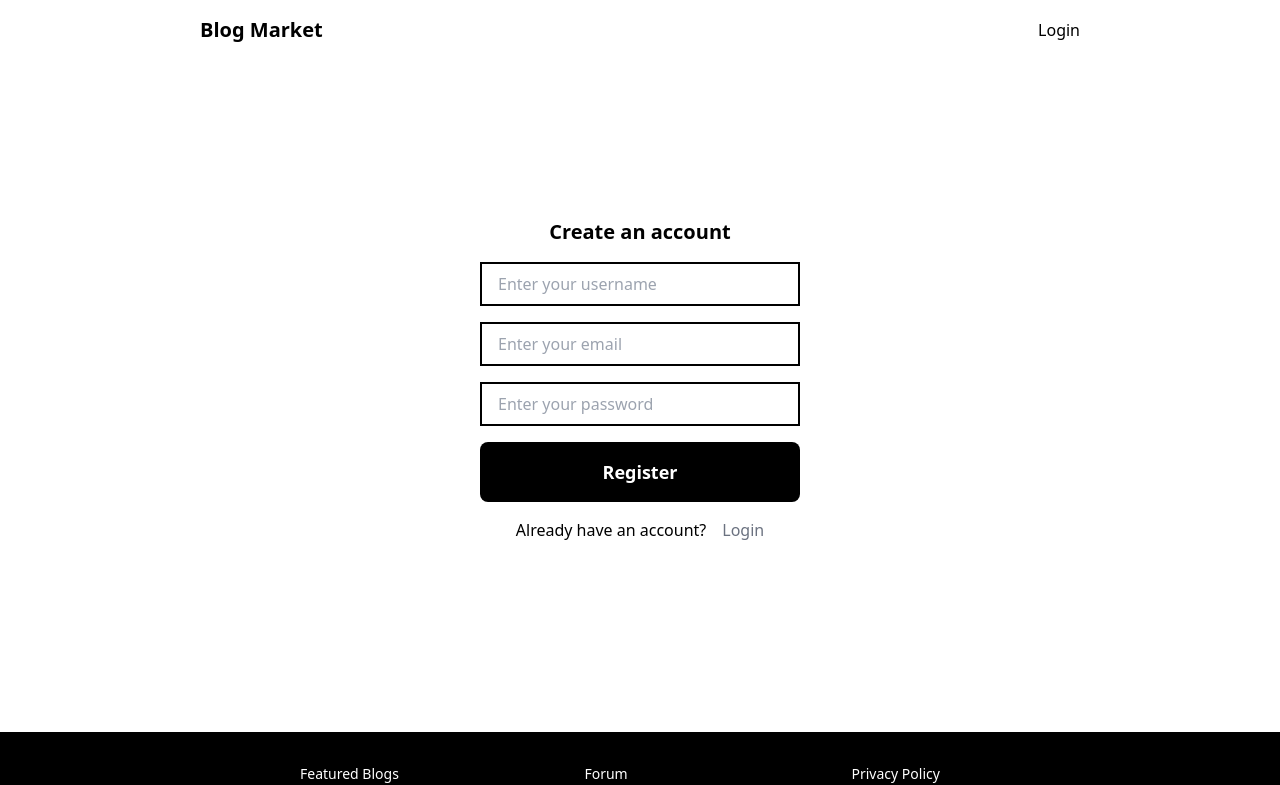
Test: Testing Register UI › should display an error message for unsuccessful registration with existing username
The width and height of the screenshot is (1280, 785).
// Simulate user input
Type "existingusername" into the field with placeholder "Enter your username".
click(640, 284); type("existingusername")  # box [480, 262, 800, 306]
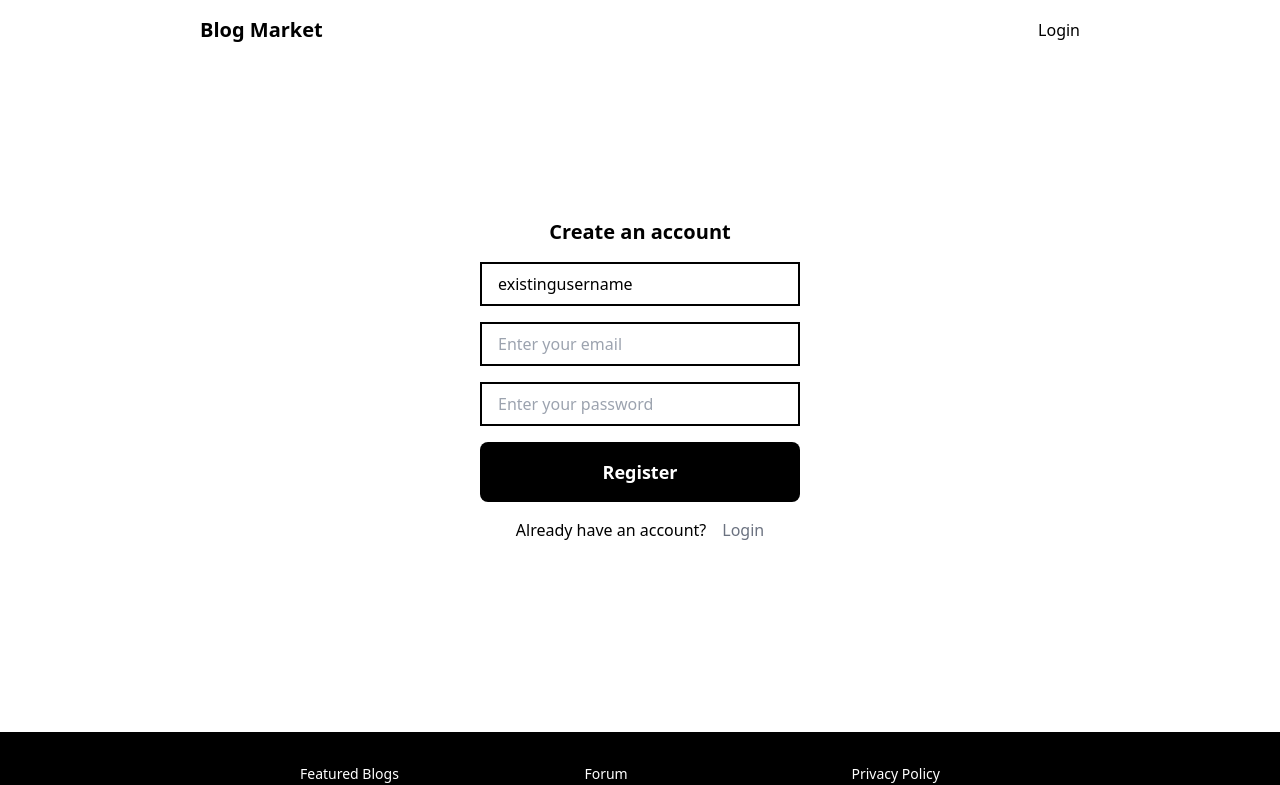
Type "newuser@example.com" into the field with placeholder "Enter your email".
click(640, 344); type("newuser@example.com")  # box [480, 322, 800, 366]
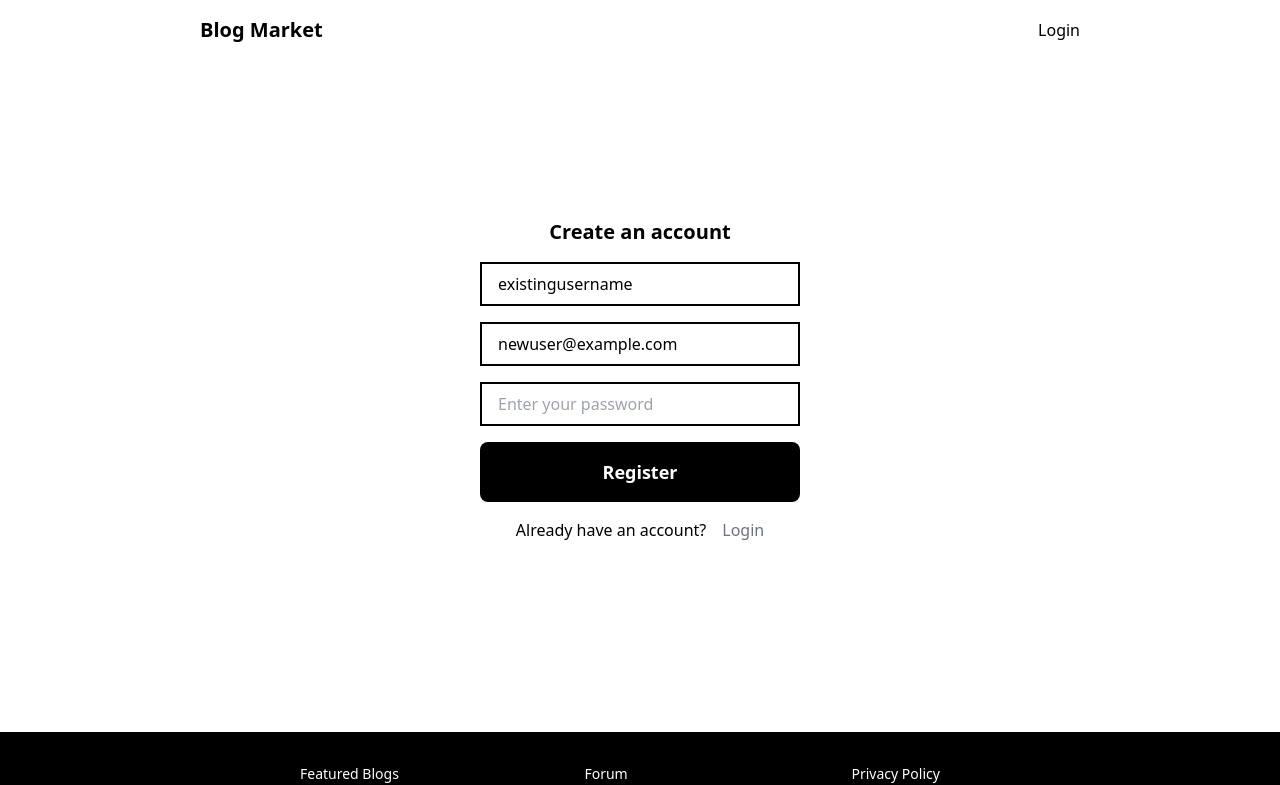
Type "newpassword" into the password field with placeholder "Enter your password".
click(640, 404); type("newpassword")  # box [480, 382, 800, 426]
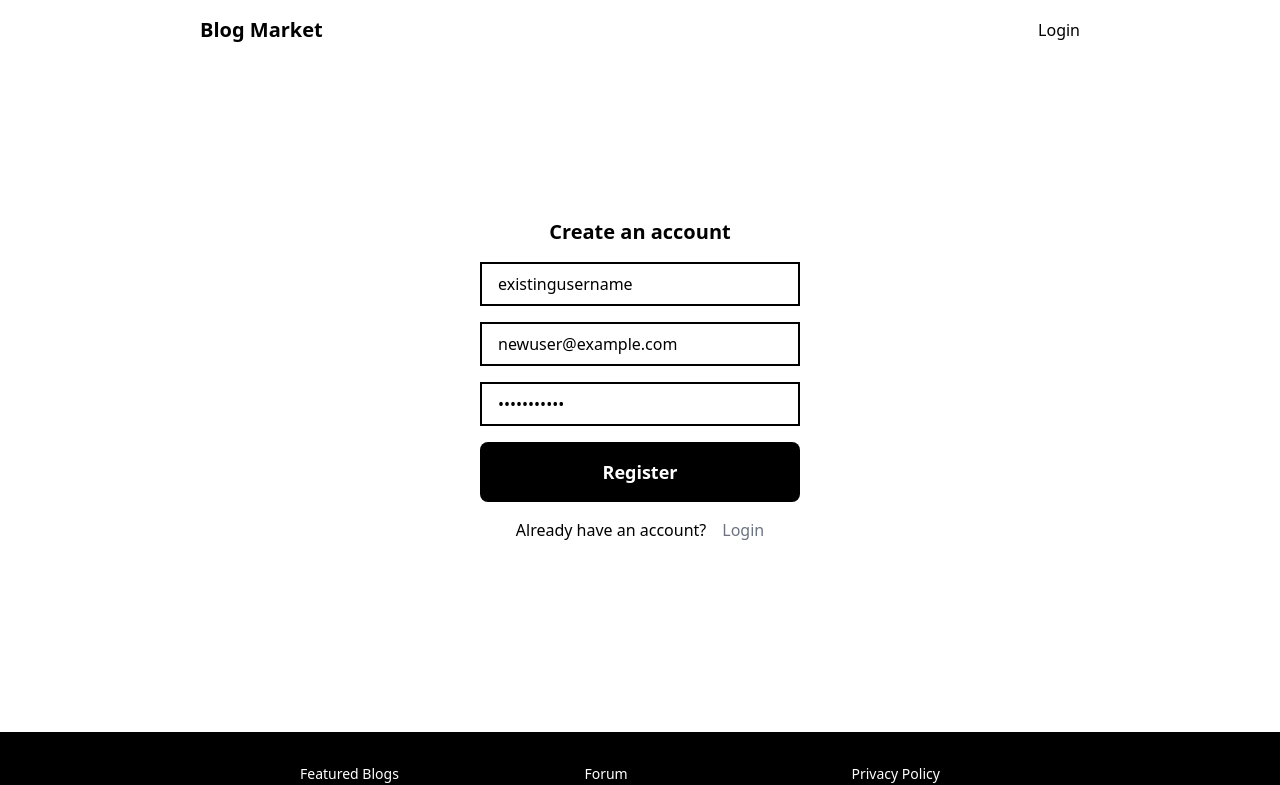
// Click the register button
Click the button "Register".
click(640, 472)  # box [480, 442, 800, 502]
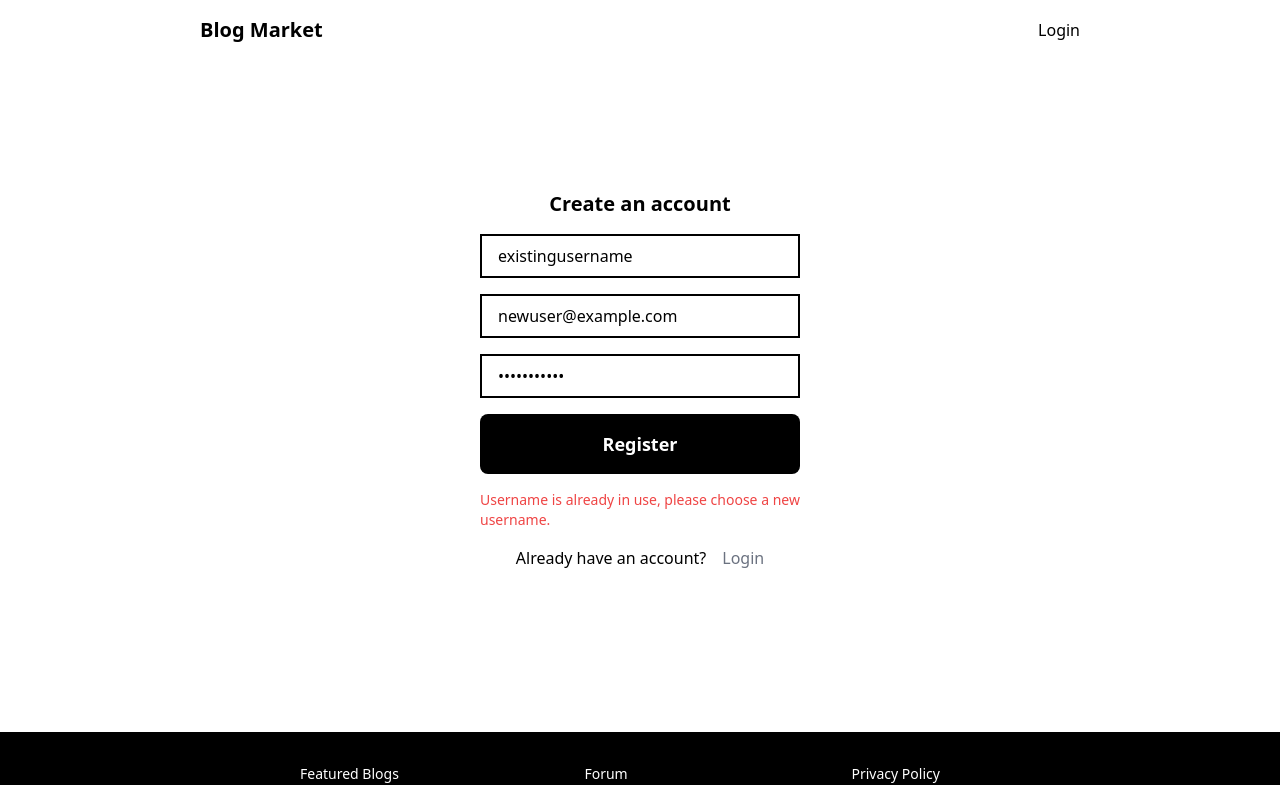
Check: the heading "Username is already in use, please choose a new username." is shown, box [480, 490, 800, 530]
